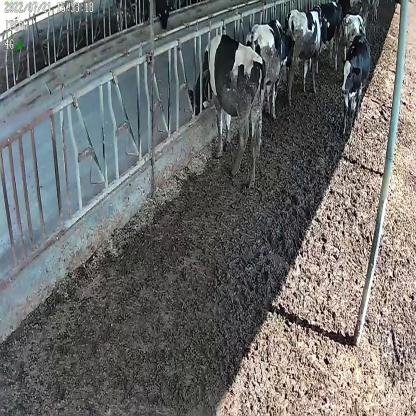cow: (190, 33, 267, 190), (244, 18, 294, 120), (284, 5, 324, 96), (339, 32, 371, 134)
